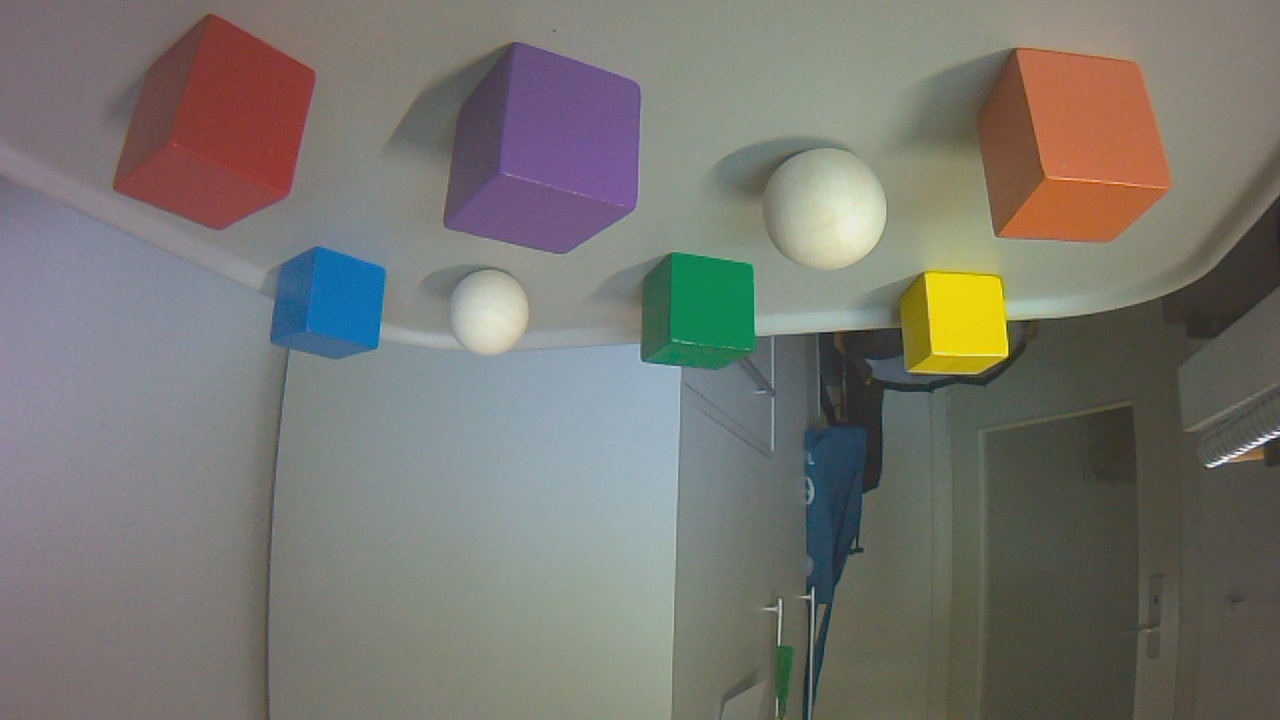ball: (765, 152, 893, 276), (450, 273, 536, 363)
cube_blue: (273, 249, 392, 367)
cube_green: (644, 255, 761, 378)
cube_orange: (978, 51, 1178, 250)
cube_purple: (446, 46, 649, 262)
cube_red: (116, 18, 323, 238)
cube_yellow: (900, 275, 1014, 383)
